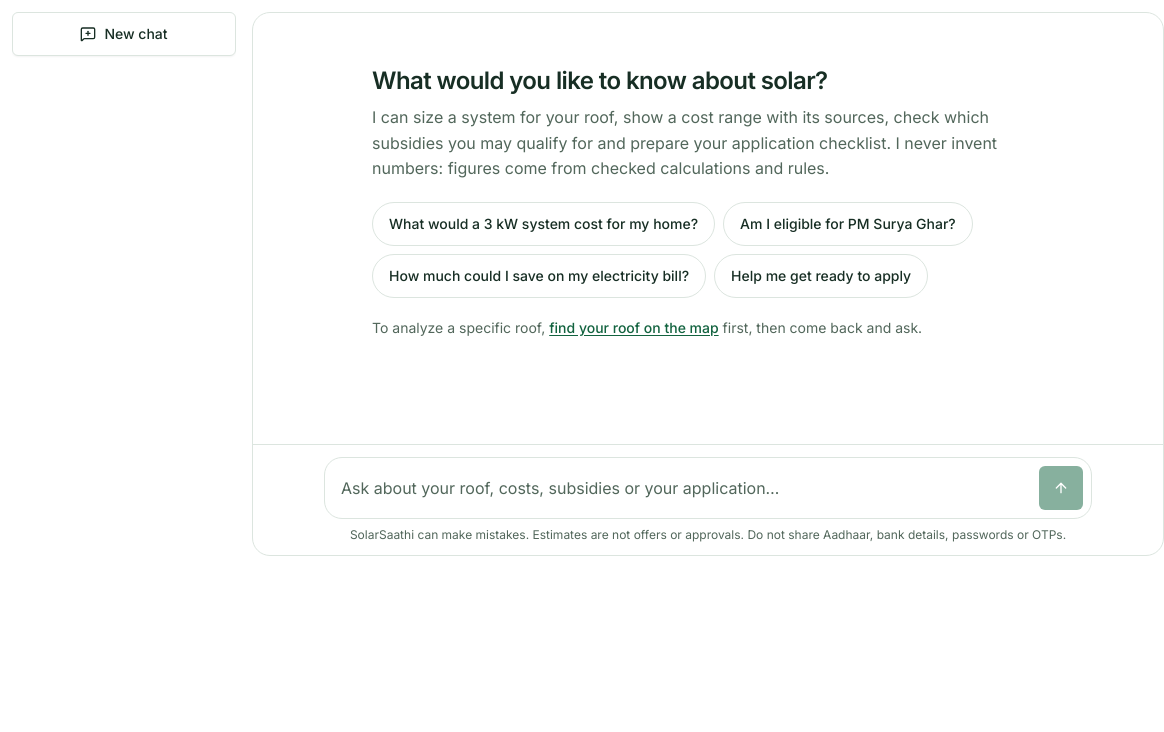
chat workspace › explains a model-access failure and shows the support reference
The image size is (1164, 732).
Type "hello" into the text box named "Message SolarSaathi" at x=682, y=488, box [333,466,1031,510]
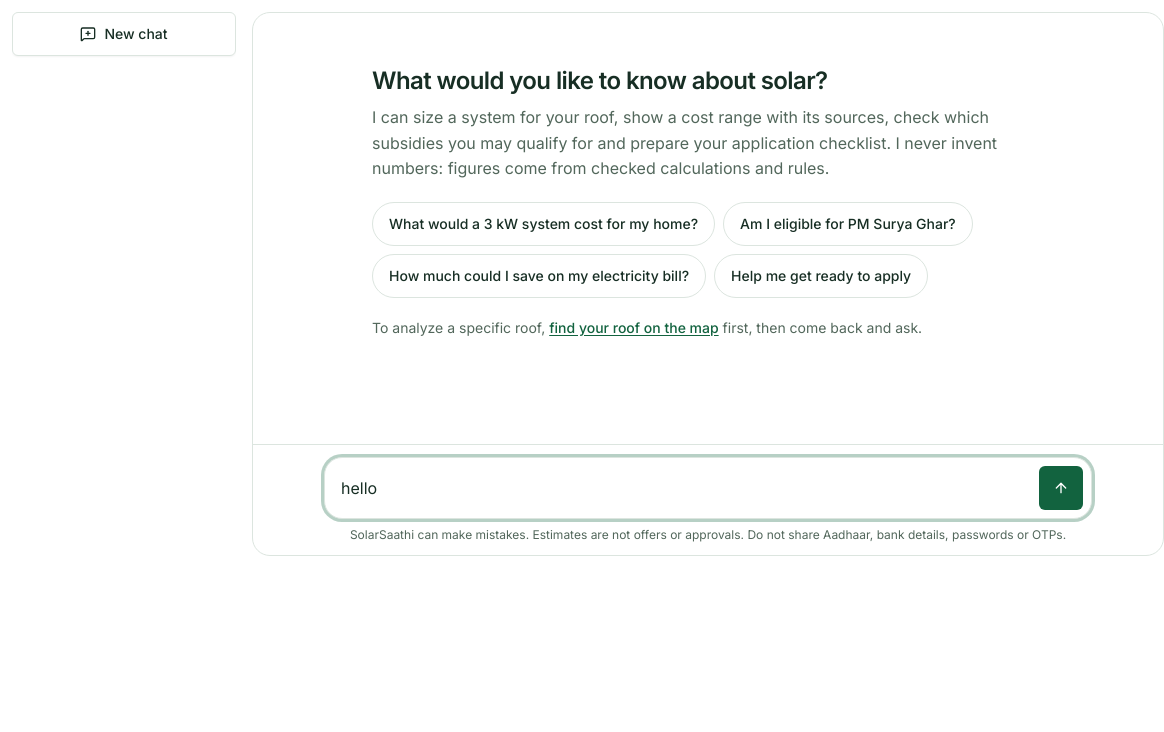
Click the button named "Send" at x=1061, y=488, box [1039,466,1083,510]
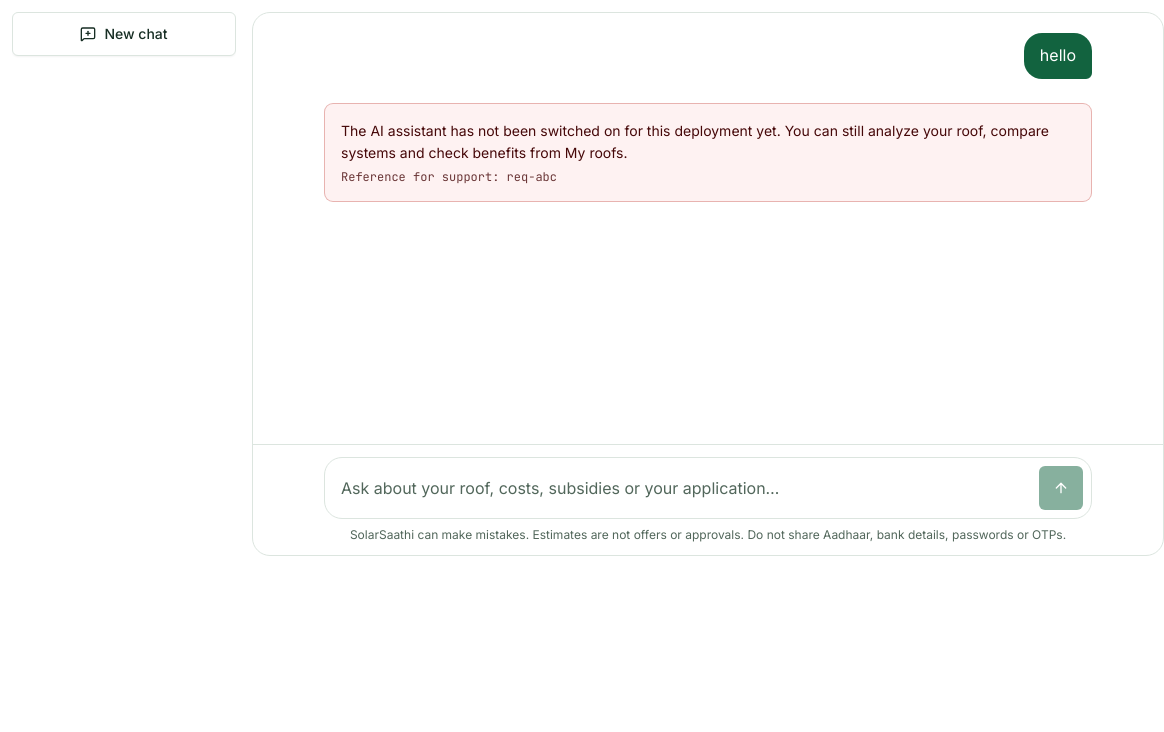
Expected: the text "has not been switched on for this deployment" is shown, [341,122,1049,161]
Expected: the text "Reference for support: req-abc" is shown, [341,169,557,185]
